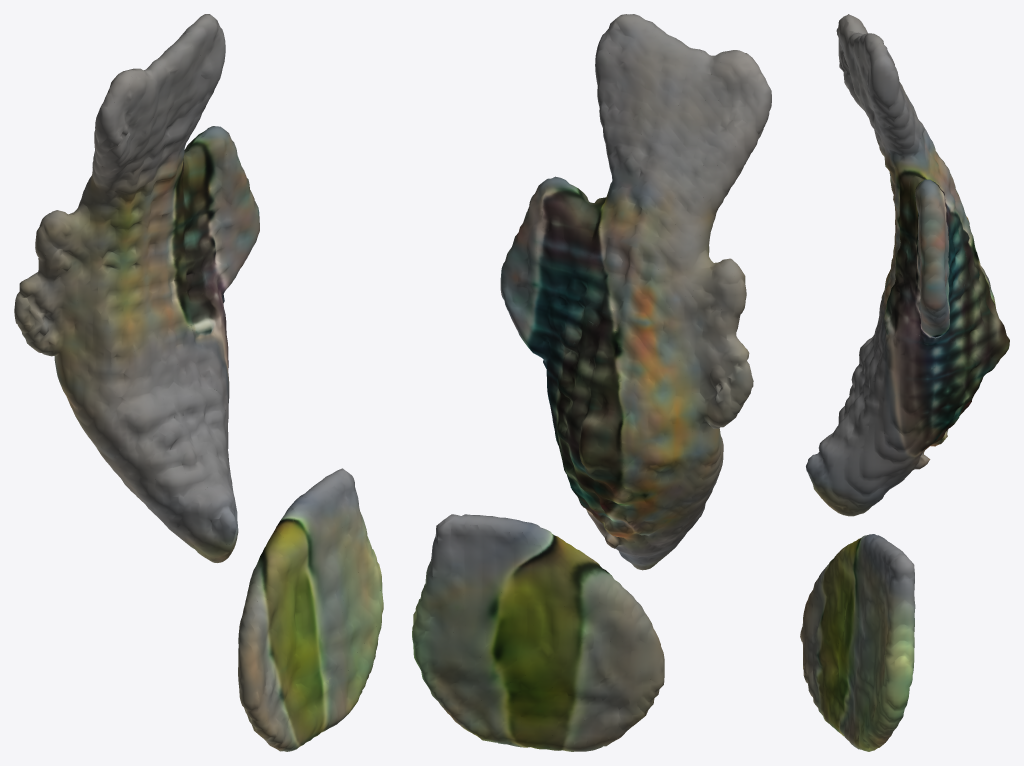
The model's file is poecilia-sphenops.glb.
3 views of the same model, side by side, from view 1: azimuth 30°, elevation 25°; view 2: azimuth 150°, elevation 25°; view 3: azimuth 270°, elevation 25° (orthographic). The views are drawn at different scales.
Visible parts, largest first — view 1: world; view 2: world; view 3: world.
Part boxes in pixels (x1,y1,x2,y2): world: [14, 14, 383, 751]; world: [412, 14, 771, 751]; world: [800, 14, 1009, 751].
Size of the model in its own units: 0.4769 by 0.9752 by 0.2809.
Materials: 1 (1 with a texture image).
